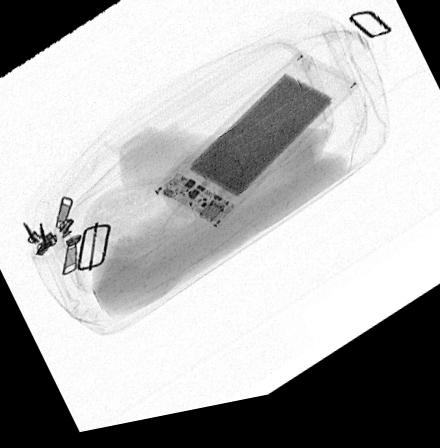Powerbank: (151, 62, 360, 237)
